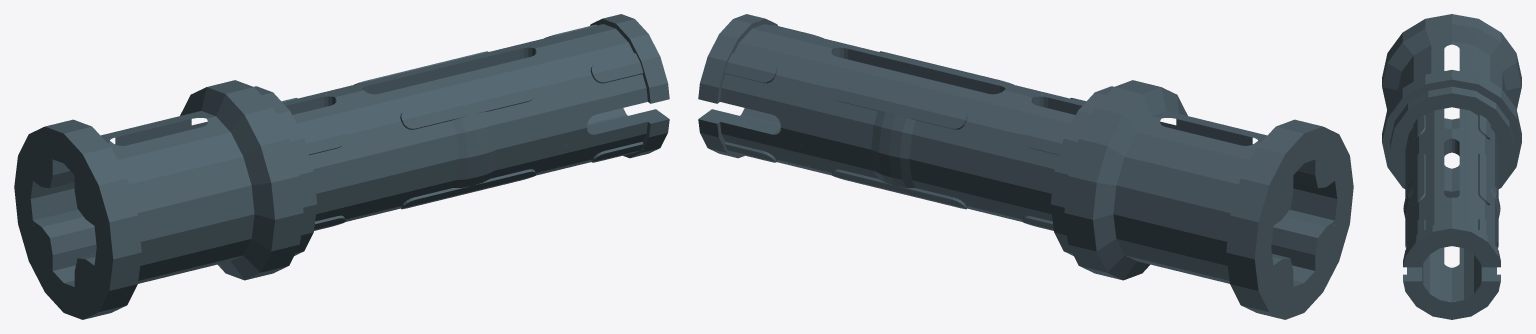
3 views of the same model, side by side, from view 1: azimuth 30°, elevation 25°; view 2: azimuth 150°, elevation 25°; view 3: azimuth 270°, elevation 25° (orthographic). The views are drawn at different scales.
Parts seen in each view (by area): view 1: world; view 2: world; view 3: world.
Boxes of the visible parts, left/top/right/bottom form: world: left=14, top=14, right=669, bottom=319; world: left=698, top=14, right=1353, bottom=319; world: left=1382, top=14, right=1521, bottom=319.
Bounding box in the file's own units: 0.024 × 0.0072 × 0.0072.
